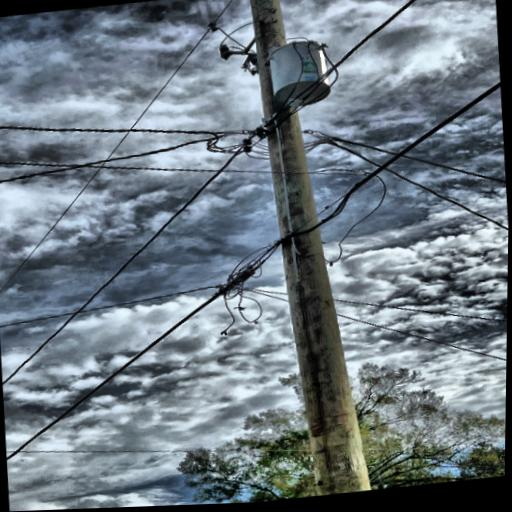pole: (221, 0, 399, 504)
transformer: (265, 36, 333, 112)
